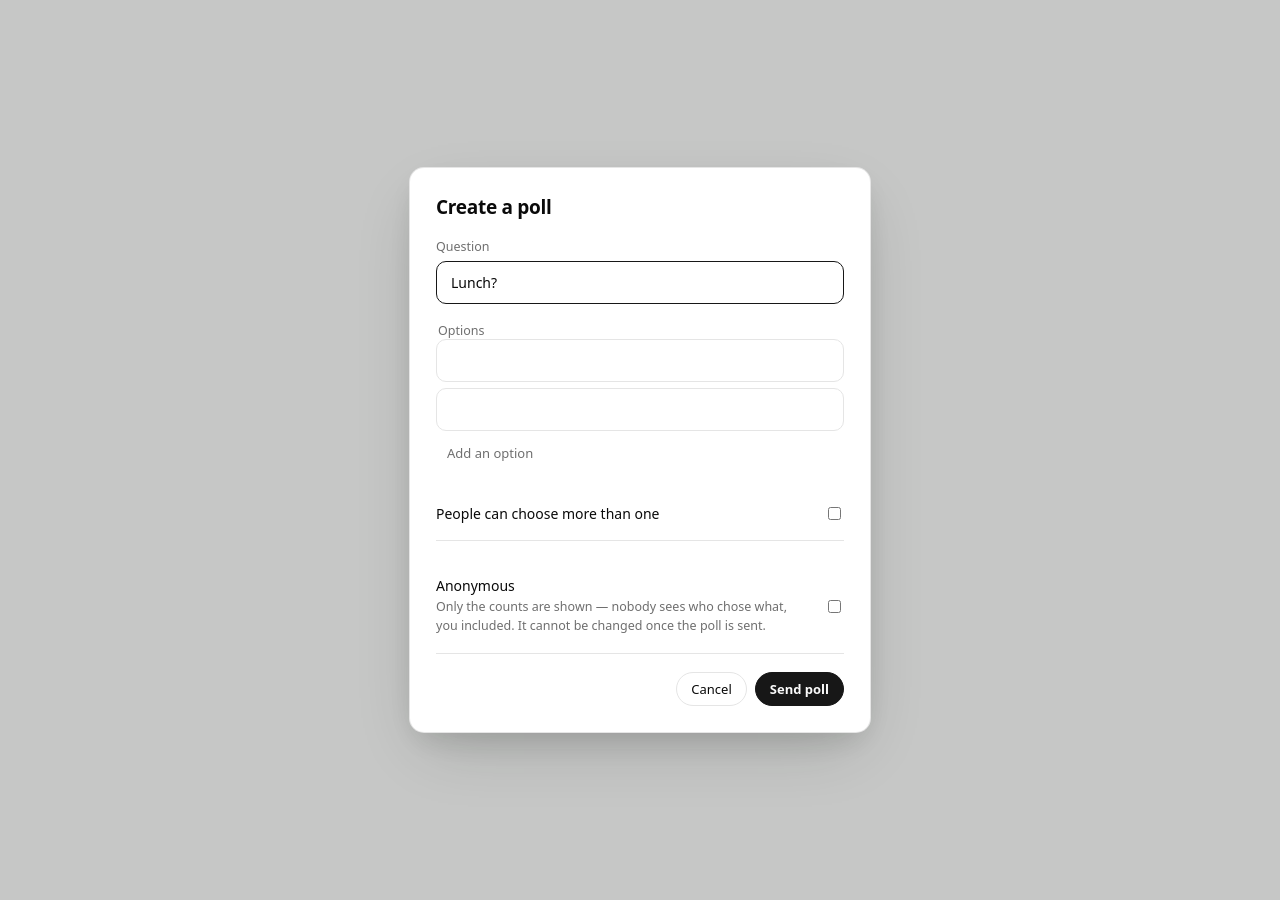
Test case: asking a poll › says what the server refused, and keeps what was typed
Type "Yes" into the field named "Option 1". click: (640, 361)
box: [436,339,844,382]
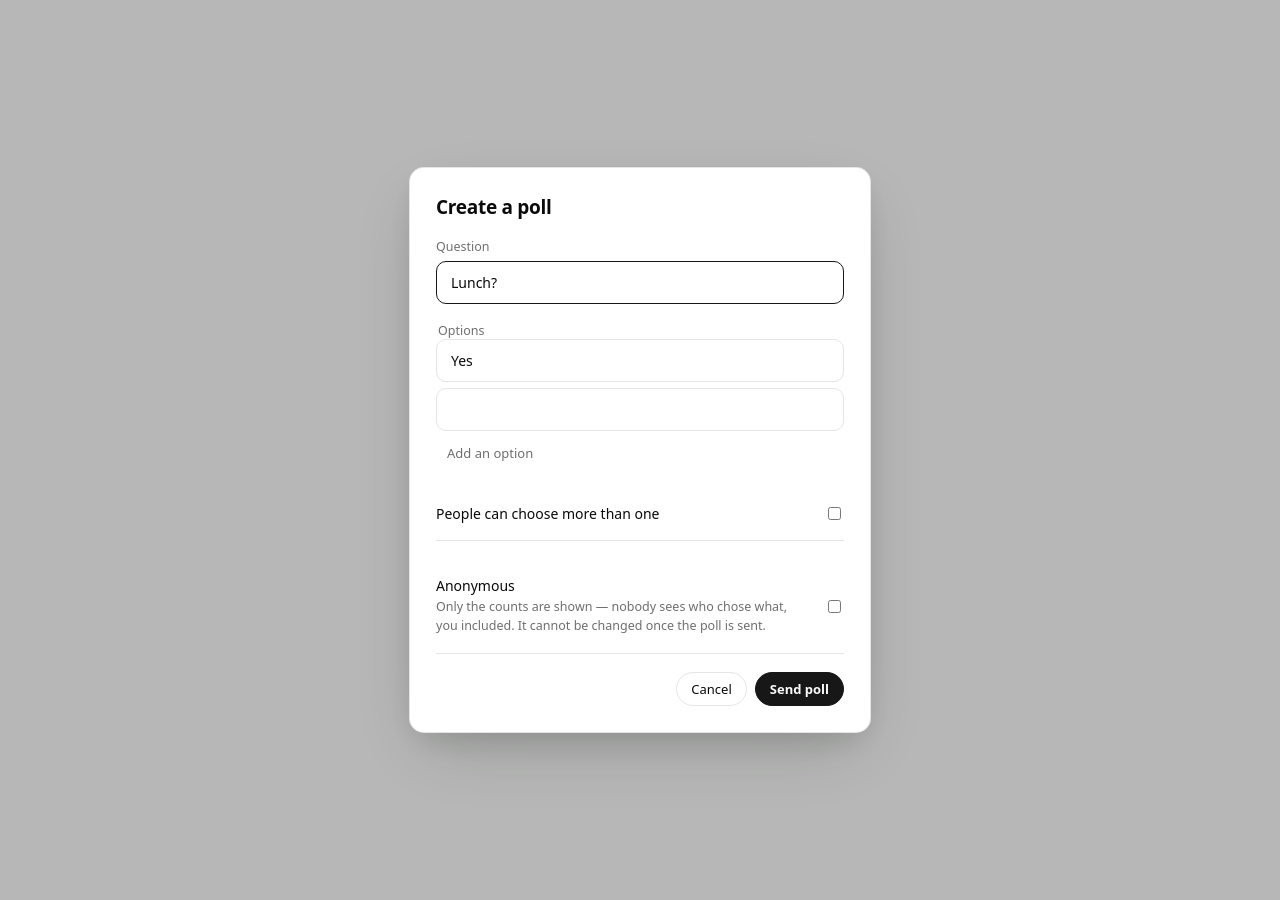
Type "yes" into the field named "Option 2". click: (640, 410)
box: [436,388,844,431]
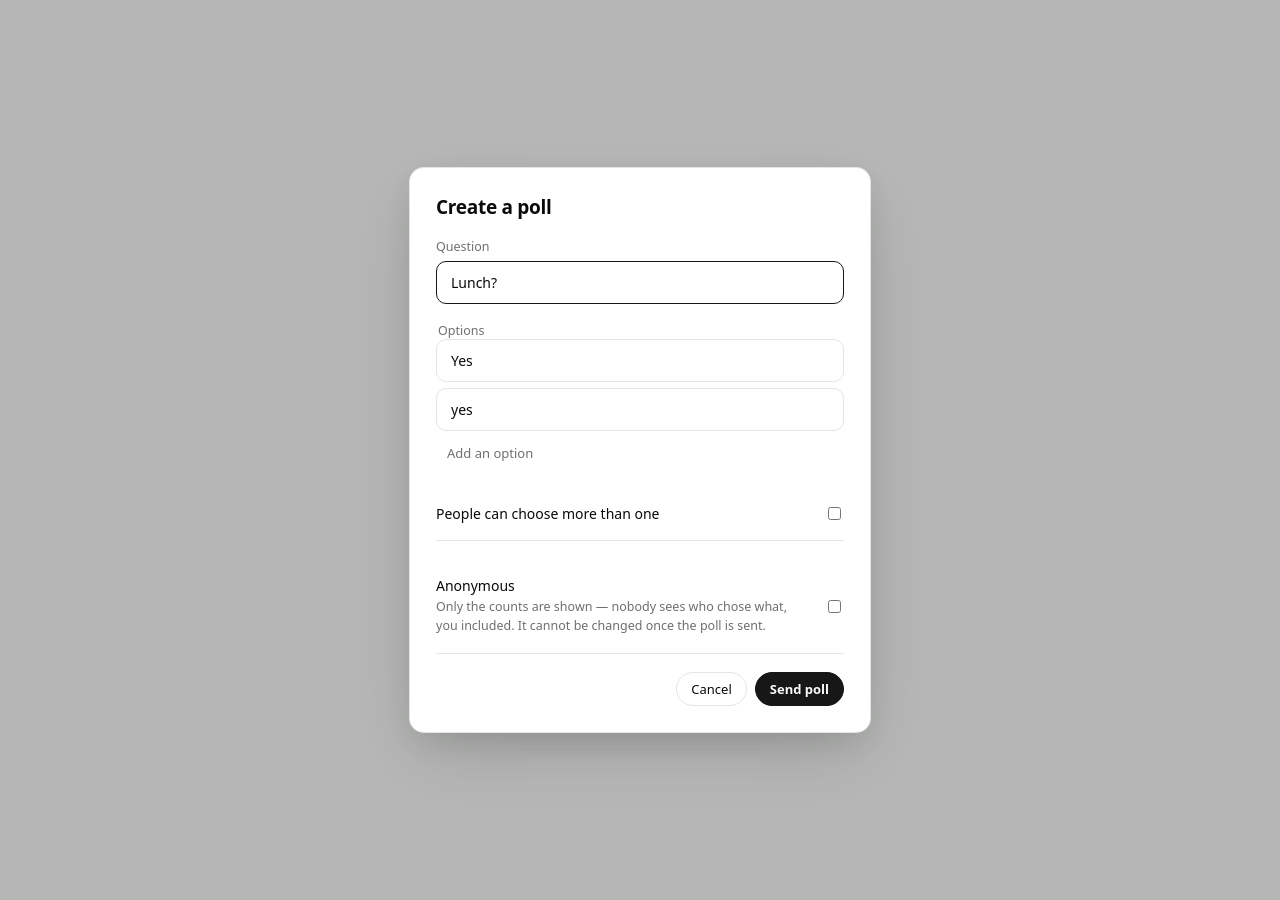
Click the button "Send poll". click: (799, 689)
box: [755,672,844,706]
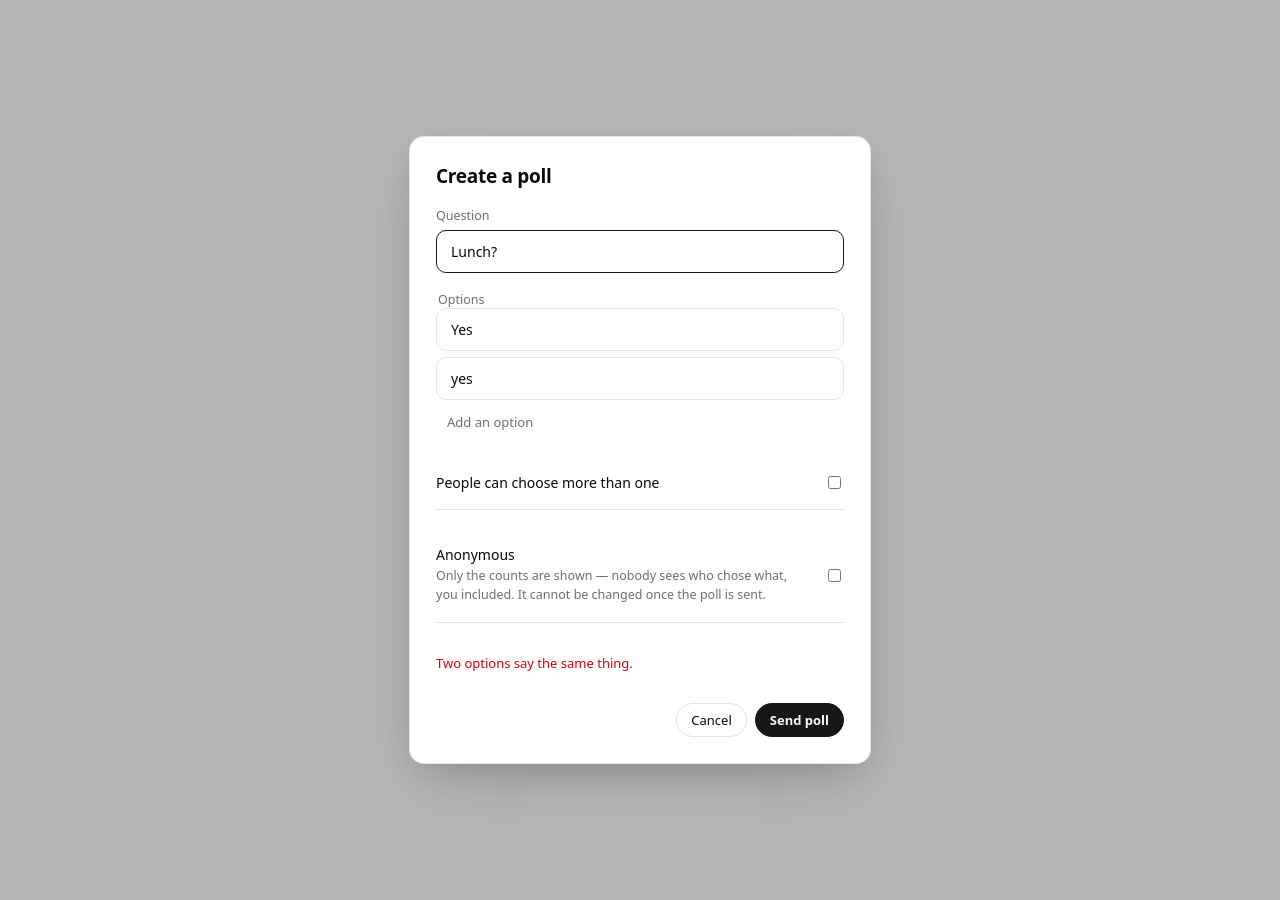
Now the text "Two options say the same thing." is shown, box [436,654,633,672]
